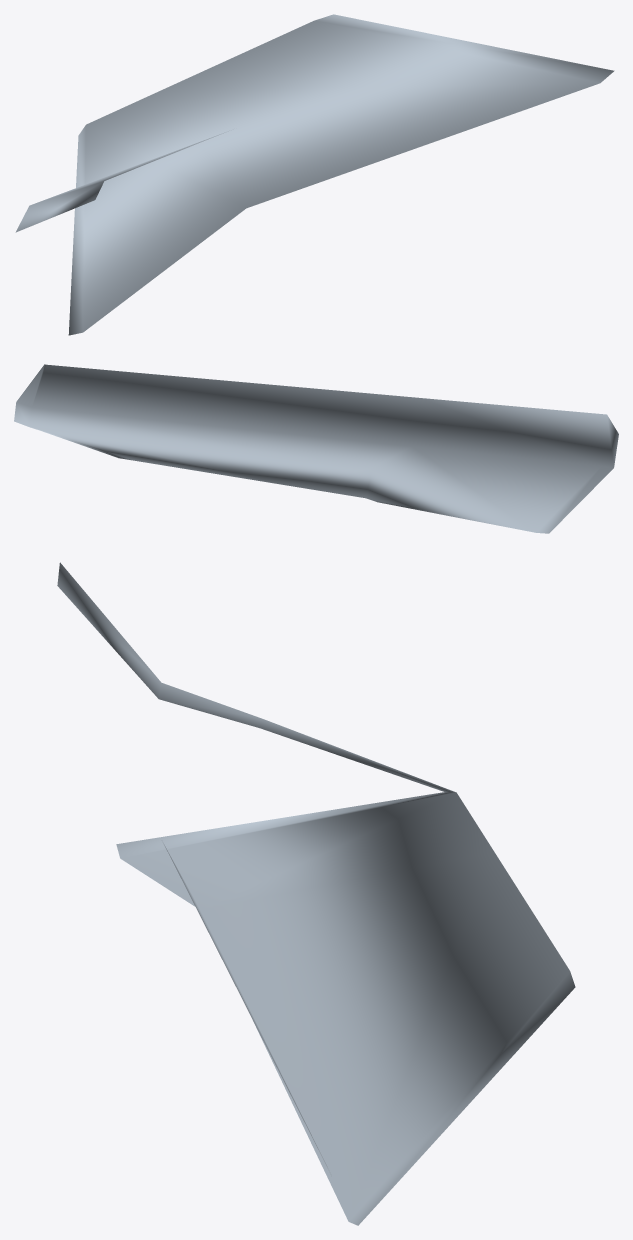
The model's file is transverse-ligament-of-knee-r.glb.
The picture shows the model from 3 angles, top to bottom: view 1: azimuth 30°, elevation 25°; view 2: azimuth 150°, elevation 25°; view 3: azimuth 270°, elevation 25°; orthographic projection. The views are drawn at different scales.
Visible parts, largest first — view 1: Transverse ligament of knee.r; view 2: Transverse ligament of knee.r; view 3: Transverse ligament of knee.r.
Boxes of the visible parts, x1=… form: Transverse ligament of knee.r: x1=15, y1=14, x2=614, y2=335; Transverse ligament of knee.r: x1=14, y1=364, x2=618, y2=533; Transverse ligament of knee.r: x1=57, y1=562, x2=575, y2=1225.
Bounding box in the file's own units: 0.0284 × 0.0062 × 0.012.
